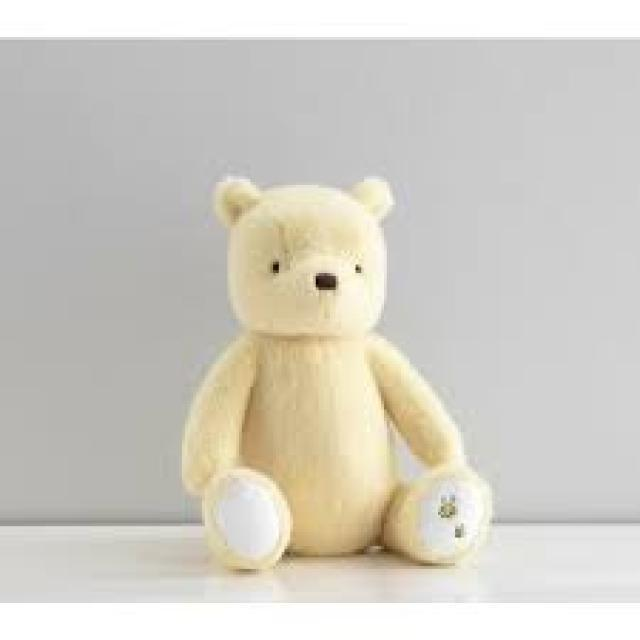soft-toy: (184, 179, 494, 570)
